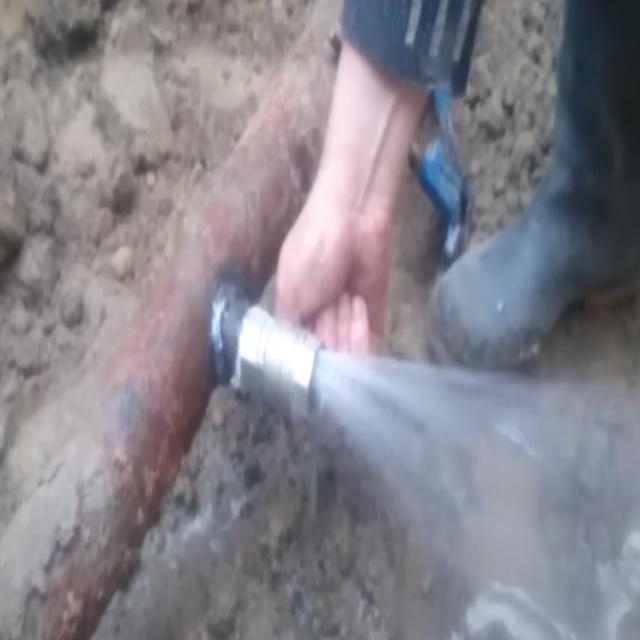leak: (308, 350, 640, 640)
